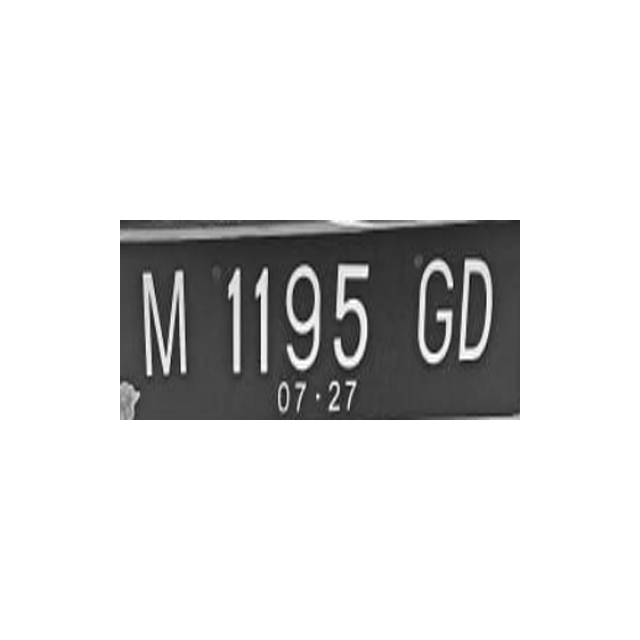contain: (140, 260, 190, 389), (279, 252, 327, 378), (329, 250, 377, 376), (410, 247, 458, 373), (454, 250, 502, 376), (215, 257, 253, 386), (246, 256, 284, 385)
